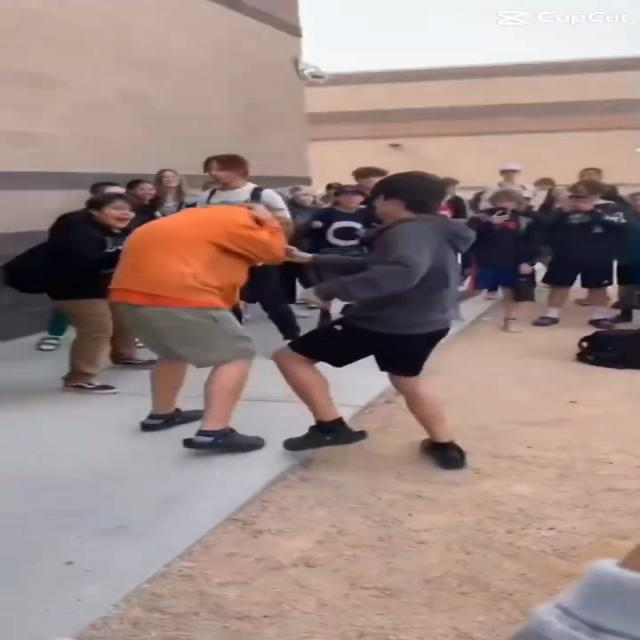fight: (113, 167, 478, 477)
